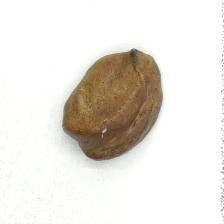NG: (62, 48, 145, 133)
